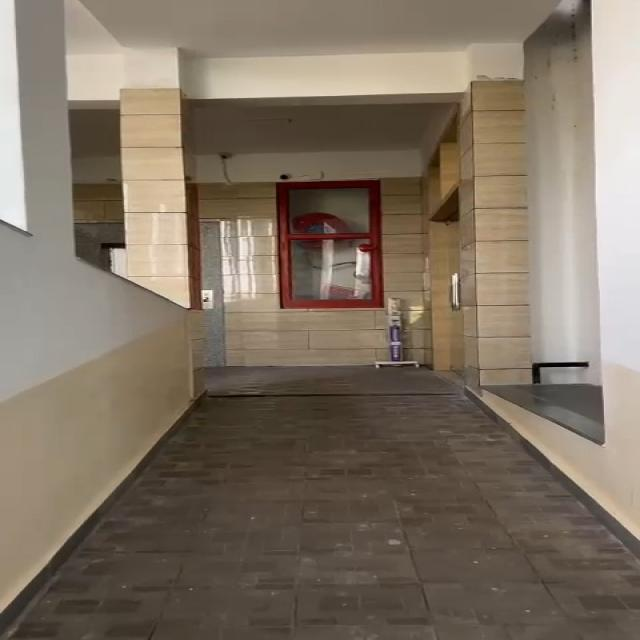door: (251, 168, 400, 340)
floor: (0, 419, 631, 637)
wall: (0, 0, 214, 552), (432, 17, 640, 449)
